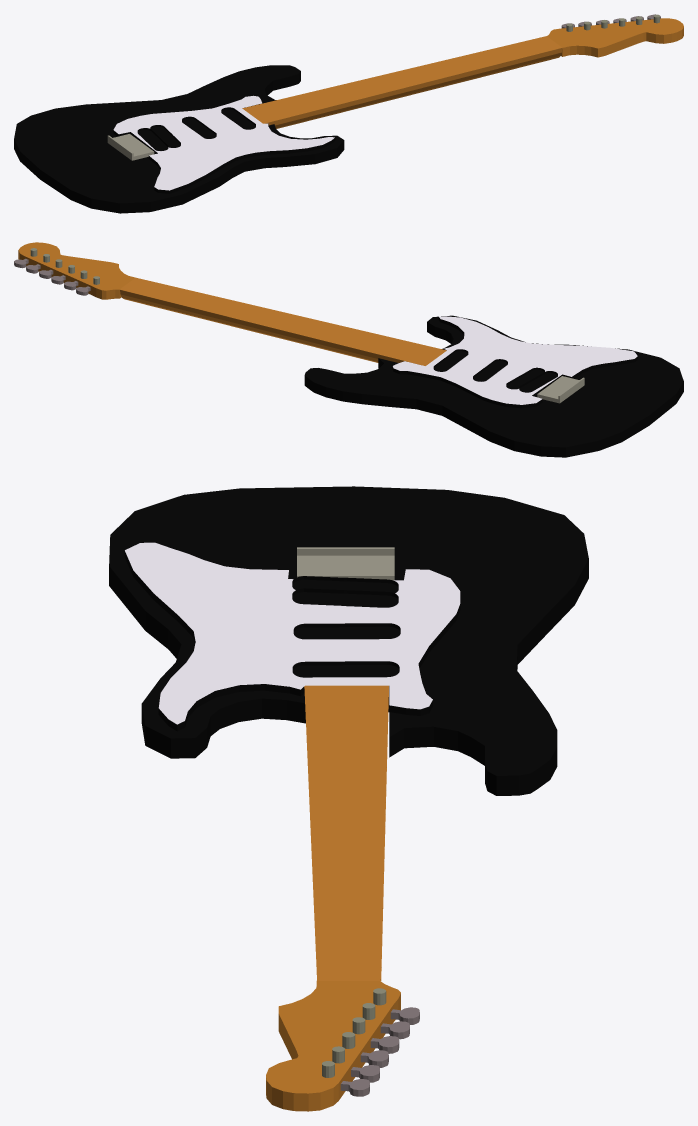
The model's file is guitColor.glb.
The picture shows the model from 3 angles, top to bottom: view 1: azimuth 30°, elevation 25°; view 2: azimuth 150°, elevation 25°; view 3: azimuth 270°, elevation 25°; orthographic projection. The views are drawn at different scales.
Visible parts, largest first — view 1: Plane.009; view 2: Plane.009; view 3: Plane.009.
Boxes of the visible parts, x1,y1,x2,y2 form: Plane.009: (14,14,683,213); Plane.009: (14,242,683,457); Plane.009: (109,486,588,1111).
Bounding box in the file's own units: 4.72 × 0.1414 × 1.56.
